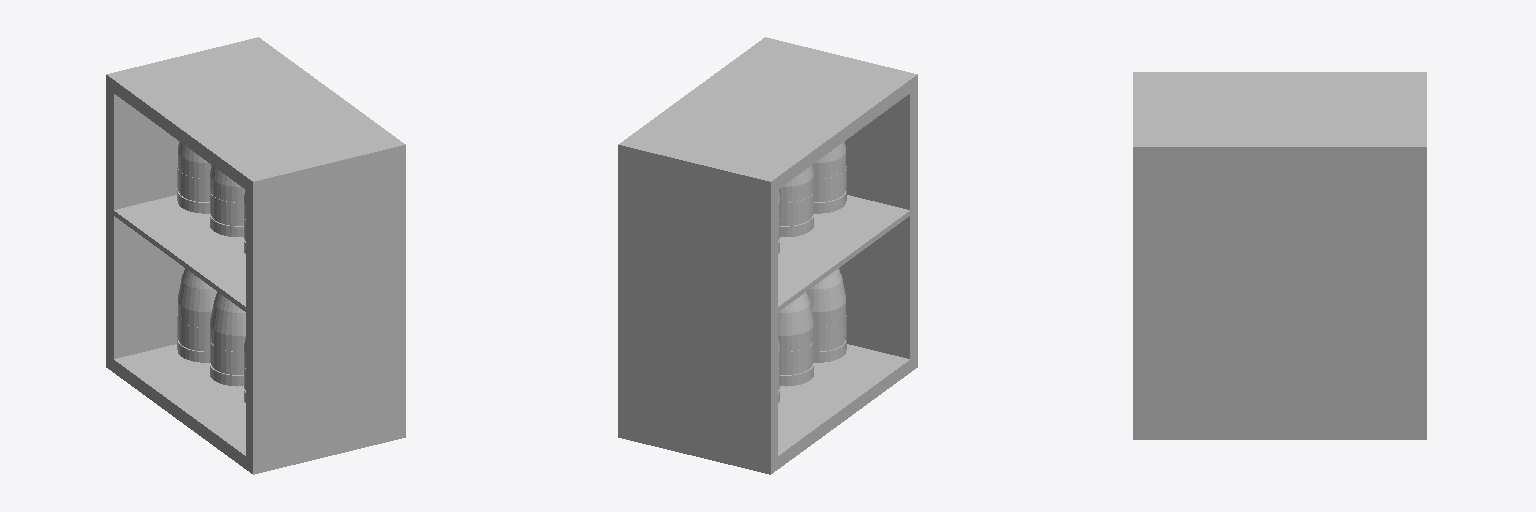
Rendered from AmmoStrage.obj.
3 renders of one model, left to right at view 1: azimuth 30°, elevation 25°; view 2: azimuth 150°, elevation 25°; view 3: azimuth 270°, elevation 25°, orthographic.
Visible parts, largest first — view 1: 立方体, 円柱.002, 円柱.003, 円柱.005, 円柱.004; view 2: 立方体, 円柱.001, 円柱, 円柱.006, 円柱.007; view 3: 立方体.
Boxes of the visible parts, box(x1,y1,x2,y2) form: 立方体: box(106, 37, 405, 474); 円柱.002: box(210, 292, 245, 386); 円柱.003: box(177, 268, 216, 362); 円柱.005: box(210, 165, 244, 236); 円柱.004: box(177, 141, 210, 213); 立方体: box(618, 37, 917, 474); 円柱.001: box(778, 292, 813, 386); 円柱: box(807, 268, 846, 362); 円柱.006: box(779, 165, 813, 236); 円柱.007: box(813, 141, 846, 213); 立方体: box(1133, 72, 1426, 439).
Size of the model in its own units: 0.6 by 1.1 by 1.